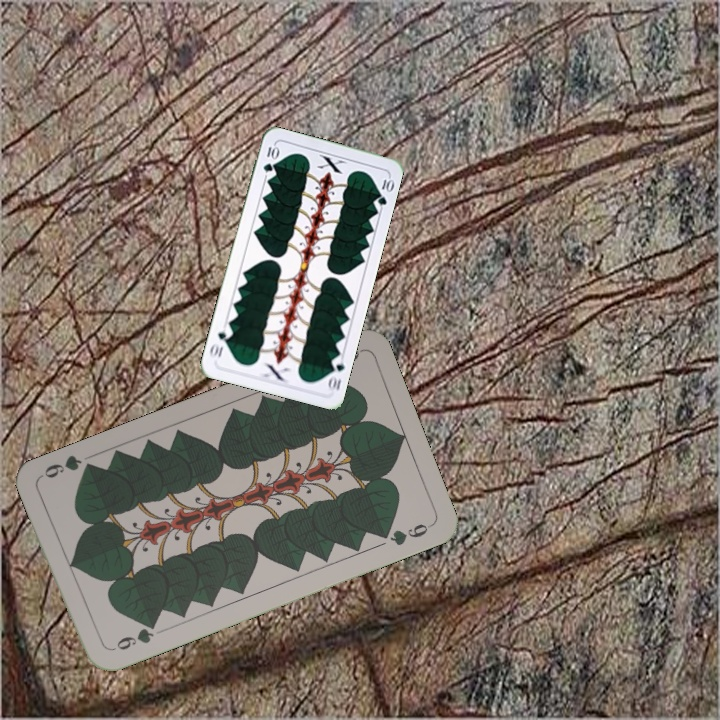G10: (324, 352, 347, 394), (259, 141, 280, 175)
G9: (106, 618, 159, 654)
